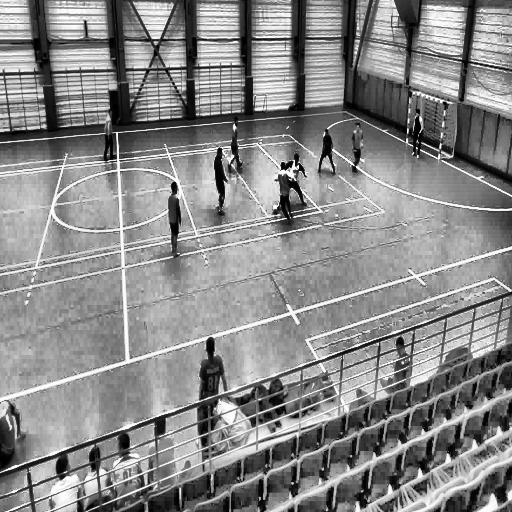ball: (273, 204, 279, 218)
player: (198, 337, 227, 434), (280, 152, 308, 209), (272, 160, 294, 226), (168, 179, 183, 256), (316, 128, 337, 175), (214, 146, 228, 215), (228, 116, 244, 172), (102, 106, 116, 160), (411, 108, 424, 158), (352, 122, 363, 173)
